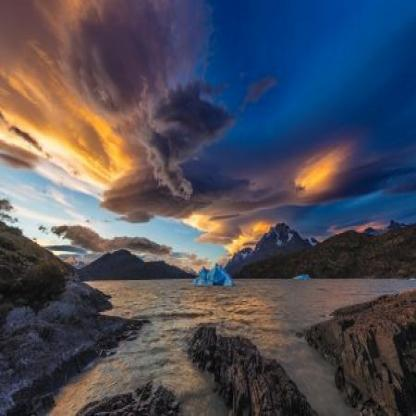other: (13, 85, 129, 203), (292, 144, 354, 194), (215, 213, 274, 257)
